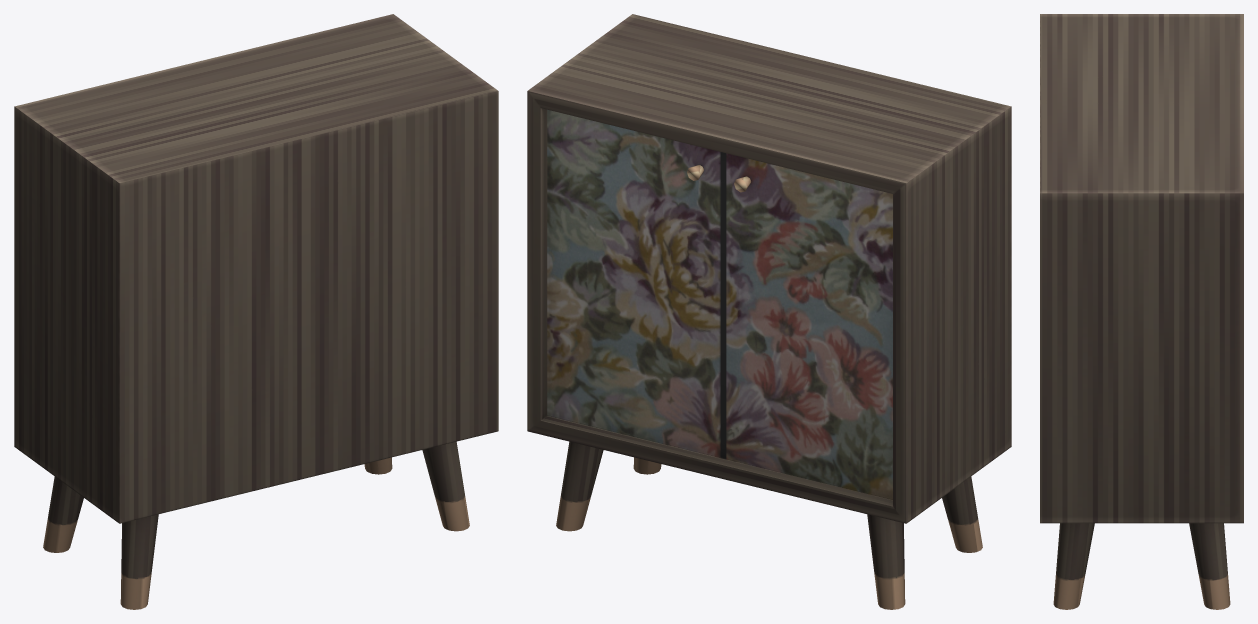
The model's file is FUR0210046.fbx.
3 views of the same model, side by side, from view 1: azimuth 30°, elevation 25°; view 2: azimuth 150°, elevation 25°; view 3: azimuth 270°, elevation 25° (orthographic). The views are drawn at different scales.
Parts seen in each view (by area): view 1: smFUR0210046; view 2: smFUR0210046; view 3: smFUR0210046.
Part boxes in pixels (<box>): smFUR0210046: <box>14,14,498,609</box>; smFUR0210046: <box>527,14,1011,609</box>; smFUR0210046: <box>1040,14,1243,609</box>.
Bounding box in the file's own units: 95.45 × 105 × 45.84.
1 material, 1 textured.
